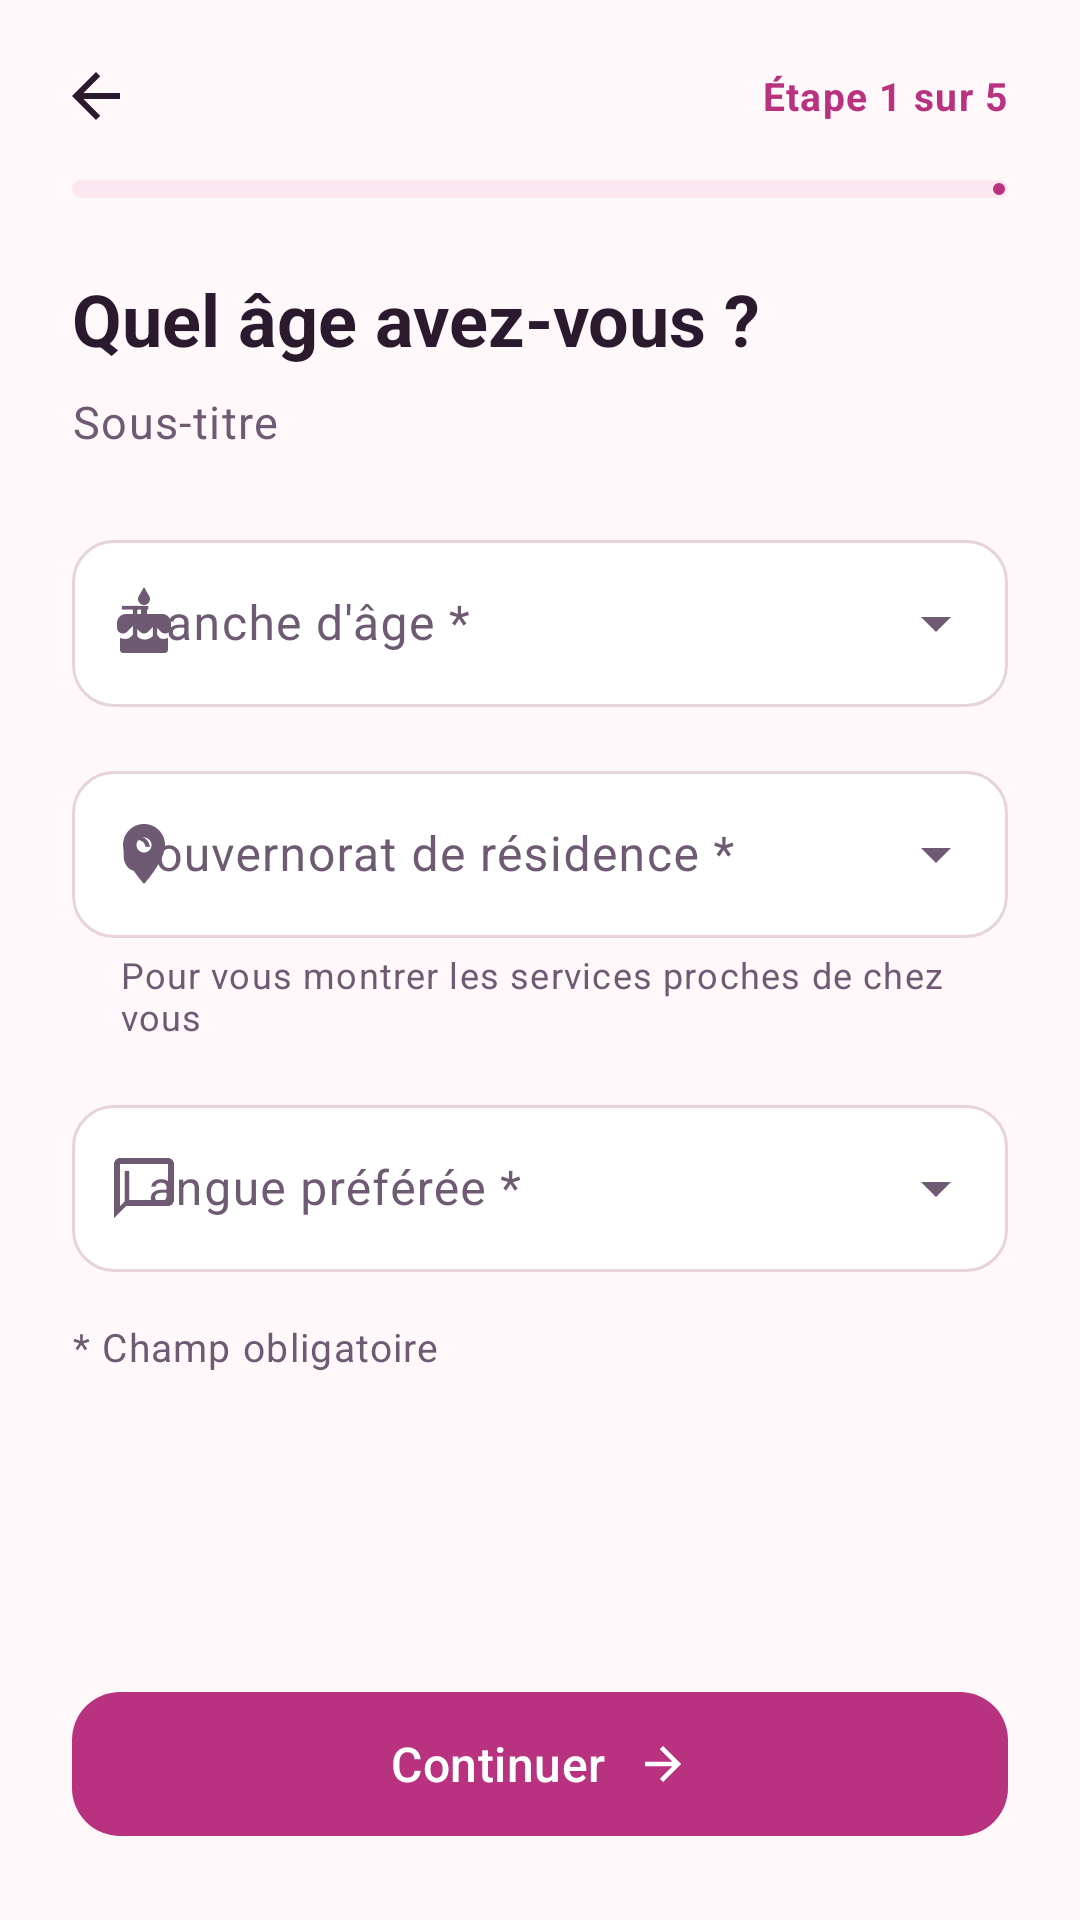

Named icons in this screenshot (1080 x 1920) and their centers, [x,y]:
Retour: [96,96]
